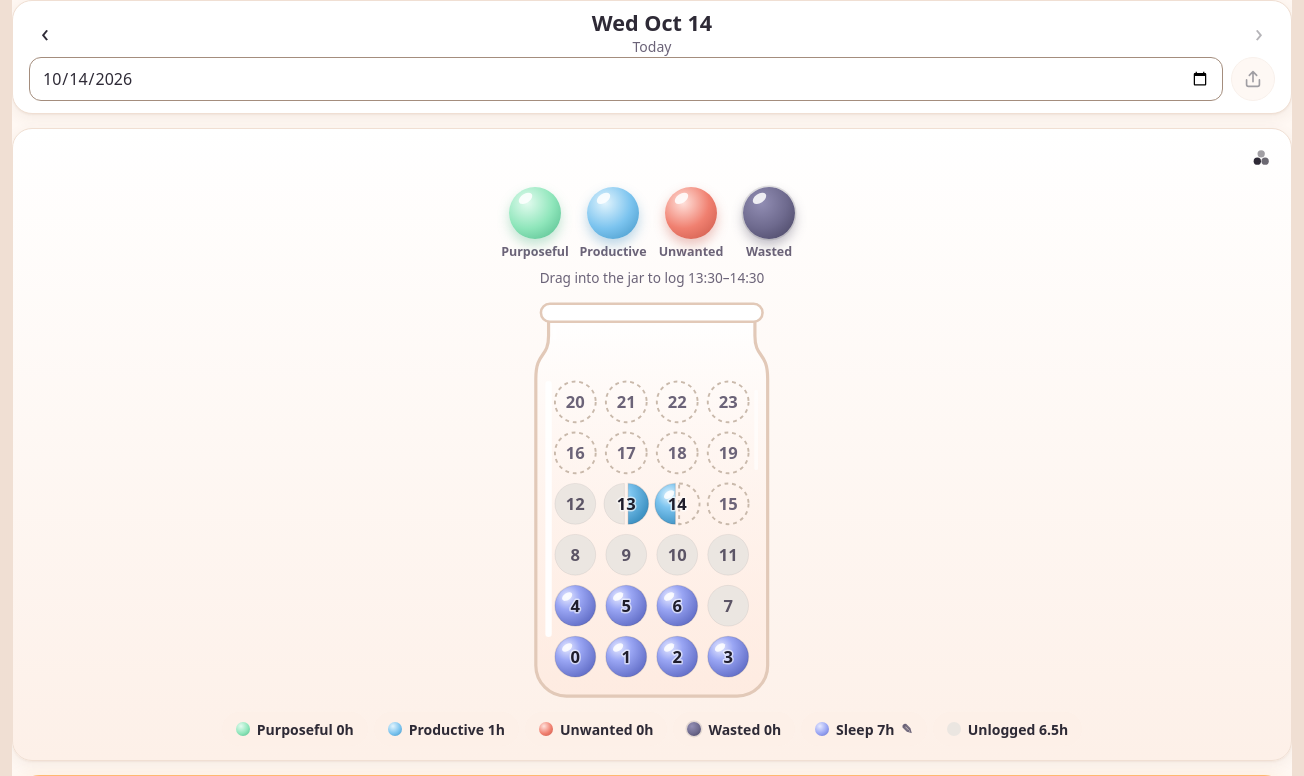
Scenario: DayView drag-to-drop tray › shows "already" and writes nothing when the window holds that category
The width and height of the screenshot is (1304, 776).
Step 1. Press the mouse on the button named "Log 13:30–14:30 as Productive" → (613, 213), box [587,187,639,239]
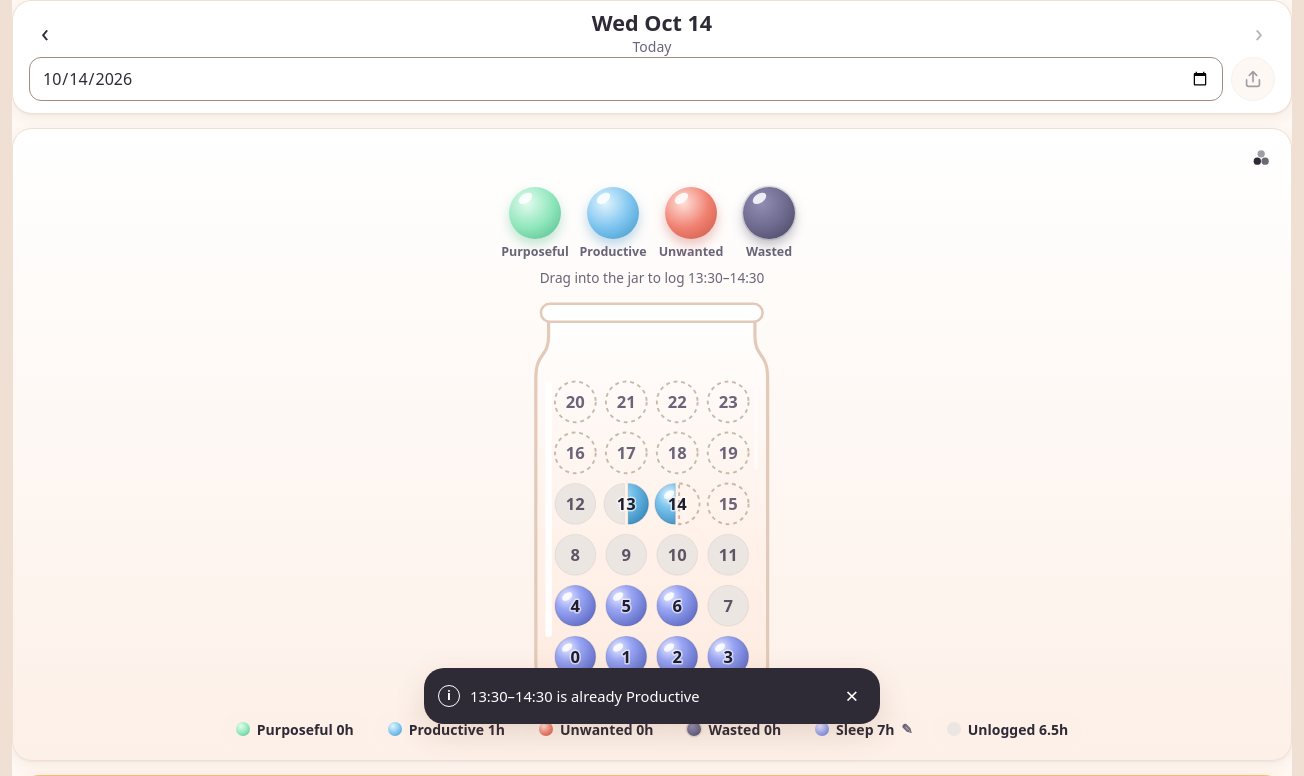
Expected: the text "13:30–14:30 is already Productive" is shown, [470,686,700,706]
